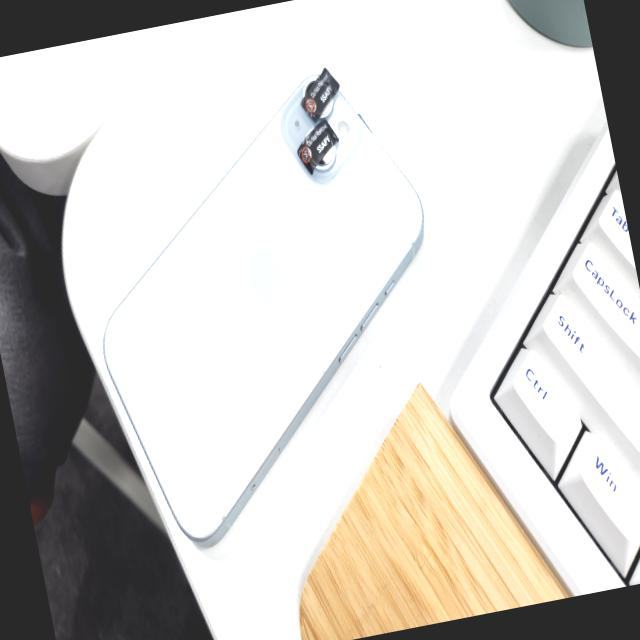phone: (58, 58, 480, 562)
sticker: (292, 116, 345, 176), (294, 64, 346, 124)
